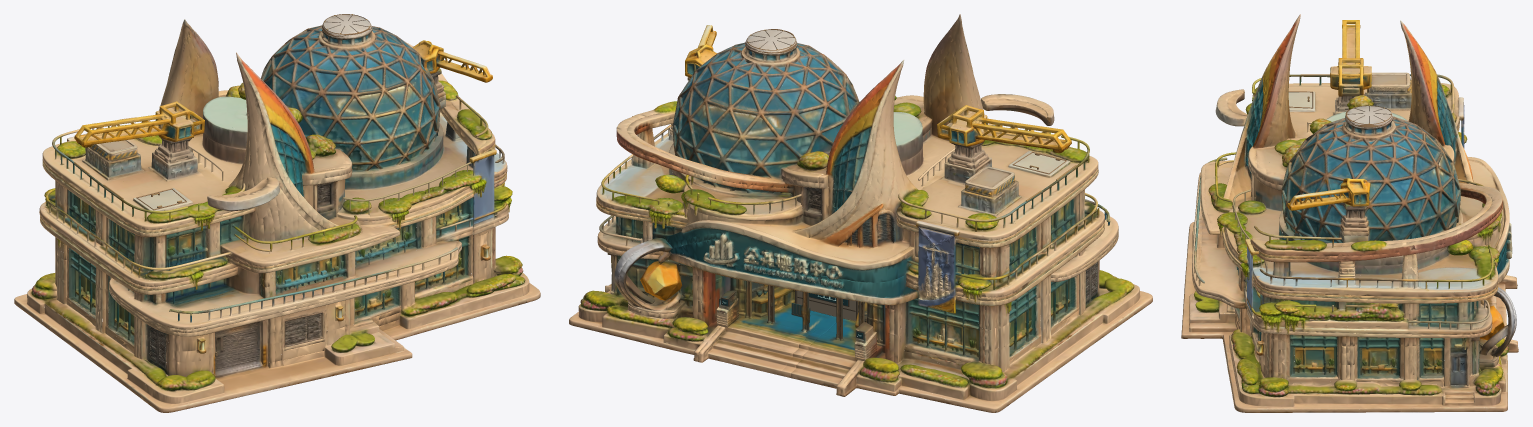
Rendered from public-construction-detail.glb.
The picture shows the model from 3 angles, left to right: view 1: azimuth 30°, elevation 25°; view 2: azimuth 150°, elevation 25°; view 3: azimuth 270°, elevation 25°; orthographic projection. The views are drawn at different scales.
Visible parts, largest first — view 1: HERO_04_Public_Construction.001, Public works | fitted roof details.001, Public works | curved terrace railing.001; view 2: HERO_04_Public_Construction.001, Public works | entrance detail.001, Public works | fitted roof details.001; view 3: HERO_04_Public_Construction.001, Public works | fitted roof details.001.
Part boxes in pixels (x1,y1,x2,y2): HERO_04_Public_Construction.001: (14, 14, 540, 412); Public works | fitted roof details.001: (74, 14, 371, 210); Public works | curved terrace railing.001: (343, 162, 471, 214); HERO_04_Public_Construction.001: (569, 14, 1152, 412); Public works | entrance detail.001: (721, 290, 864, 339); Public works | fitted roof details.001: (745, 29, 1076, 201); HERO_04_Public_Construction.001: (1181, 14, 1518, 412); Public works | fitted roof details.001: (1288, 74, 1392, 127).
Size of the model in its own units: 23 by 15.52 by 17.43.
Materials: 11 (1 with a texture image).
